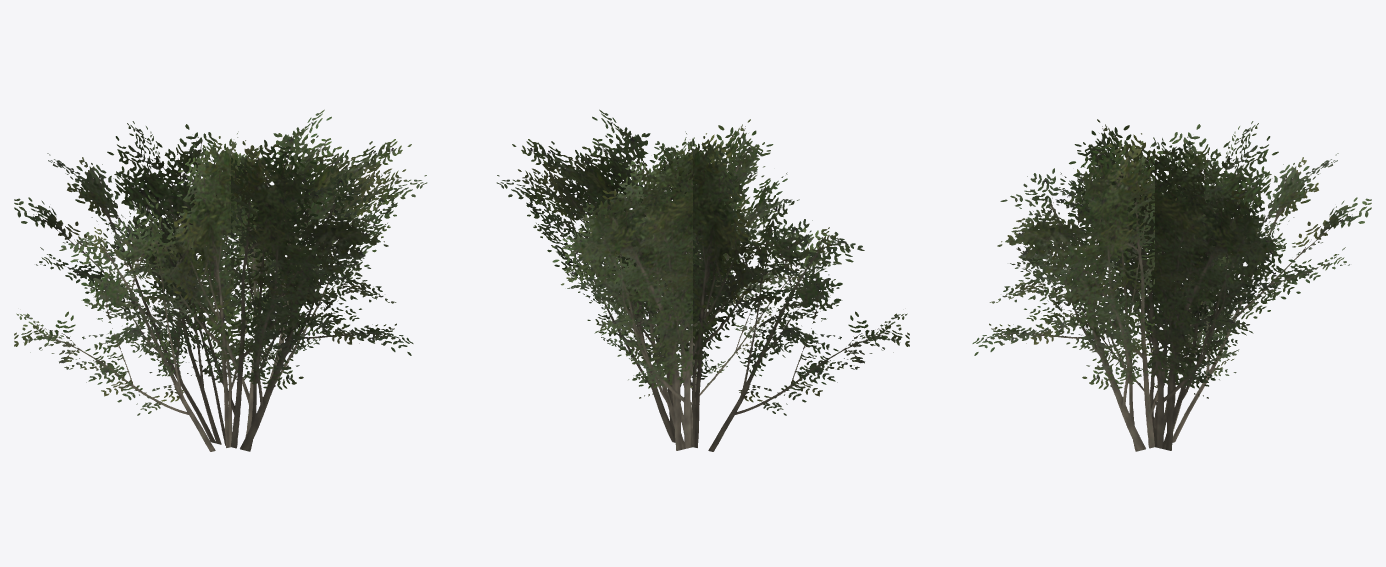
Rendered from bez_cerny_3_daleko.glb.
The picture shows the model from 3 angles, left to right: view 1: azimuth 30°, elevation 25°; view 2: azimuth 150°, elevation 25°; view 3: azimuth 270°, elevation 25°; orthographic projection.
Visible parts, largest first — view 1: bez_cerny_3_daleko; view 2: bez_cerny_3_daleko; view 3: bez_cerny_3_daleko.
Boxes of the visible parts, x1,y1,x2,y2 form: bez_cerny_3_daleko: [14, 109, 427, 451]; bez_cerny_3_daleko: [496, 109, 909, 451]; bez_cerny_3_daleko: [972, 119, 1371, 451].
Size of the model in its own units: 5.28 by 3.81 by 4.57.
Materials: 3 (3 with a texture image).
